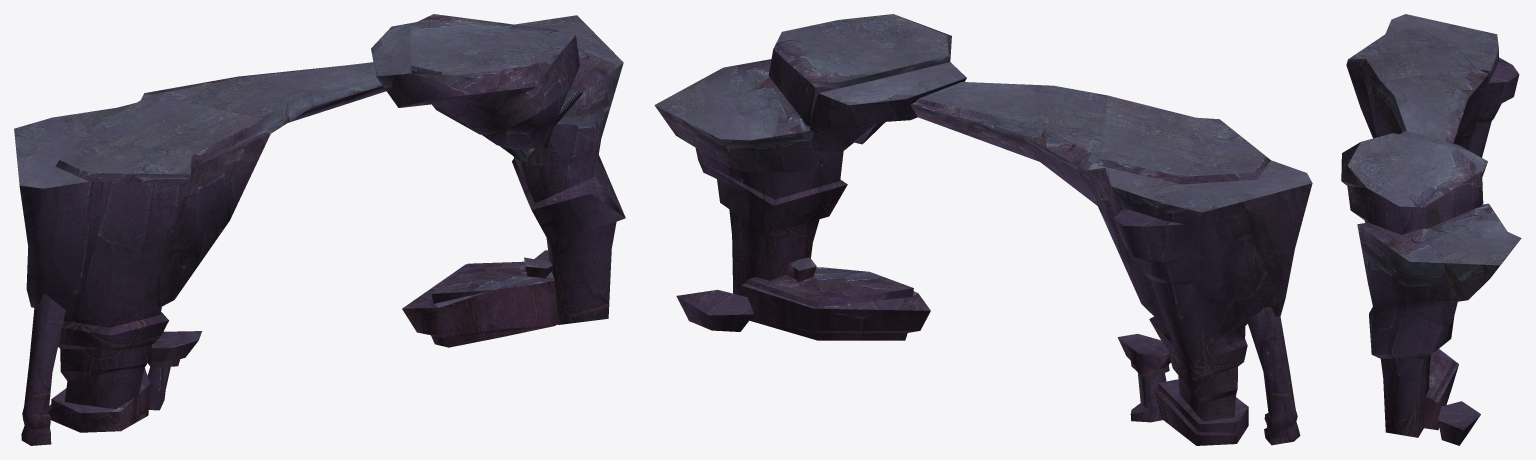
File: yw_huanghunzhihu_shiqiao.FBX
3 views of the same model, side by side, from view 1: azimuth 30°, elevation 25°; view 2: azimuth 150°, elevation 25°; view 3: azimuth 270°, elevation 25° (orthographic). The views are drawn at different scales.
Visible parts, largest first — view 1: yw_huanghunzhihu_shiqiao; view 2: yw_huanghunzhihu_shiqiao; view 3: yw_huanghunzhihu_shiqiao.
Part boxes in pixels (x1,y1,x2,y2): yw_huanghunzhihu_shiqiao: (14, 14, 625, 445); yw_huanghunzhihu_shiqiao: (654, 14, 1312, 445); yw_huanghunzhihu_shiqiao: (1341, 14, 1521, 445).
Bounding box in the file's own units: 3085 × 1424 × 1013.
